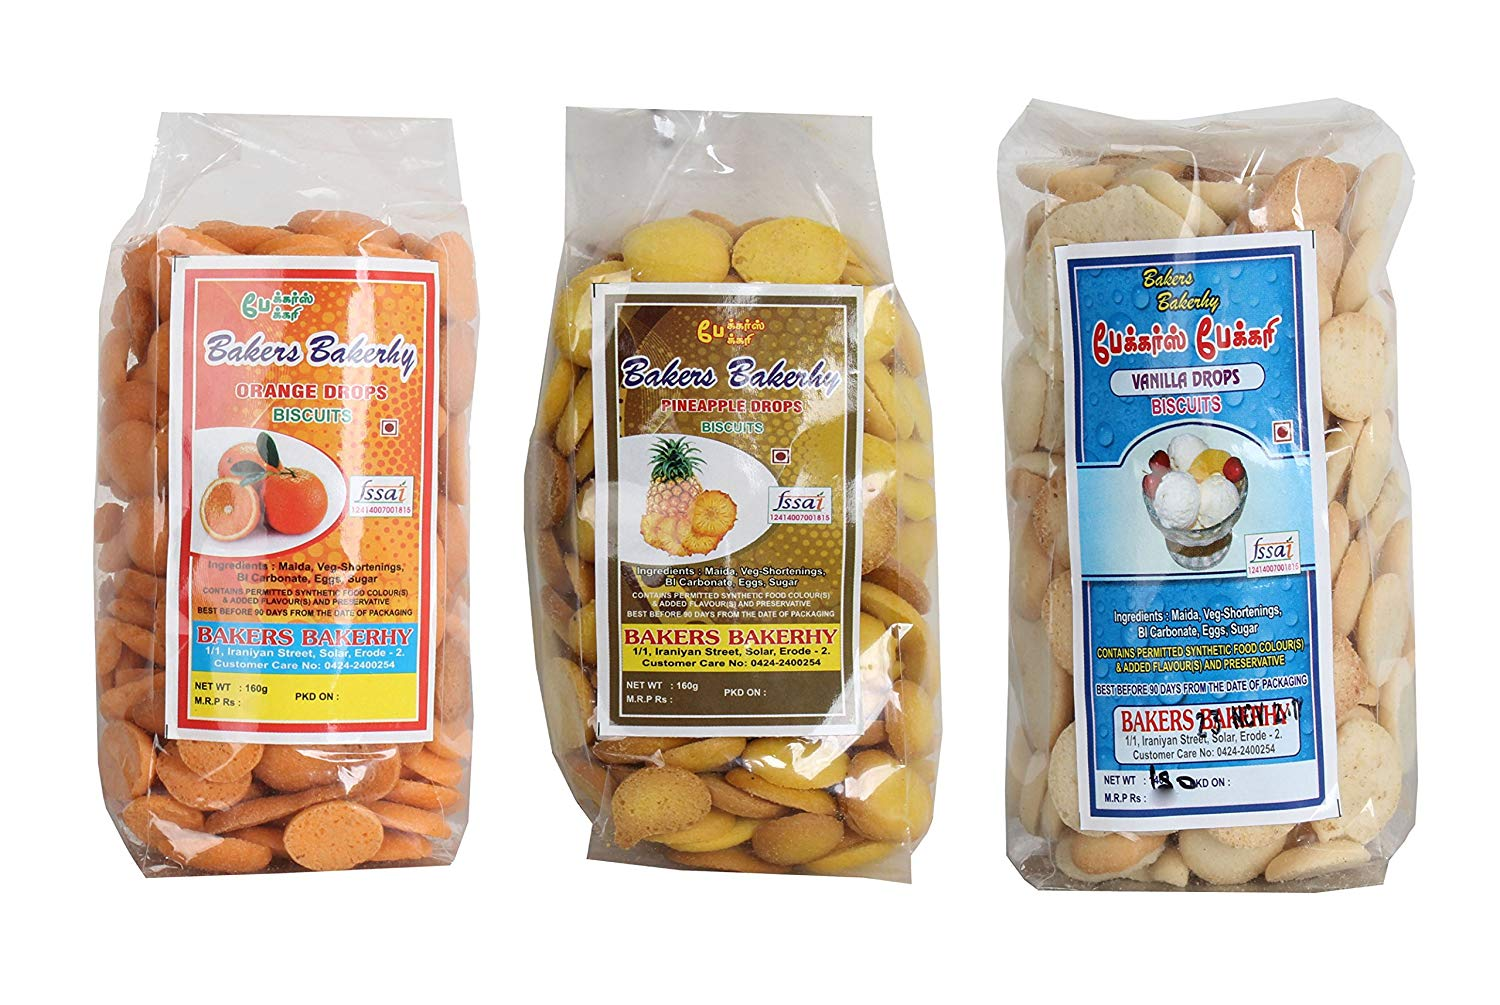nonveg_red: (1270, 417, 1297, 446), (378, 416, 402, 441), (771, 446, 793, 467)
